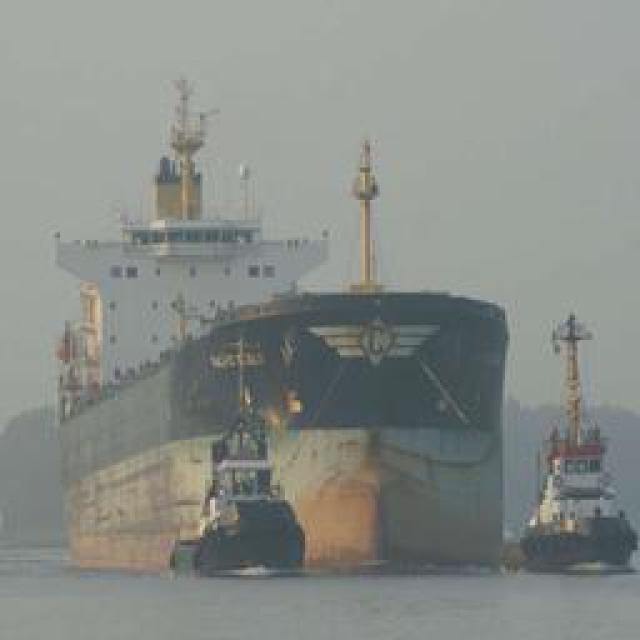Ship: (25, 68, 516, 586), (516, 309, 640, 579), (162, 401, 314, 584)
